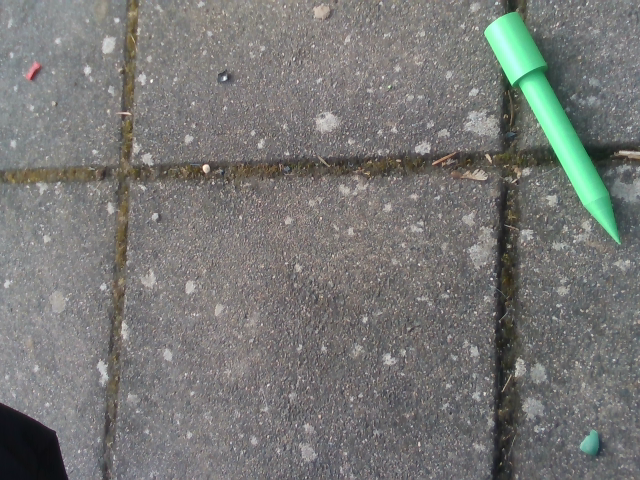Probe: (480, 8, 625, 254)
